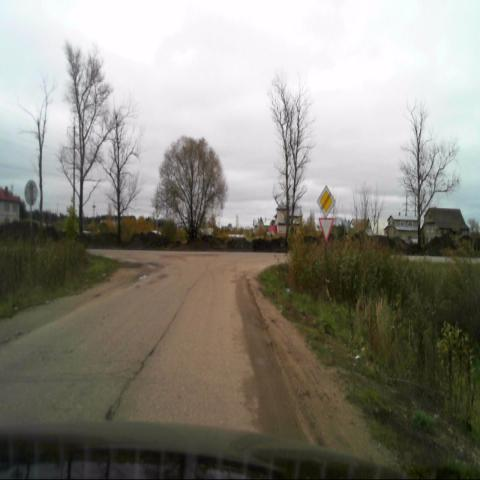2_2: (317, 185, 335, 217)
